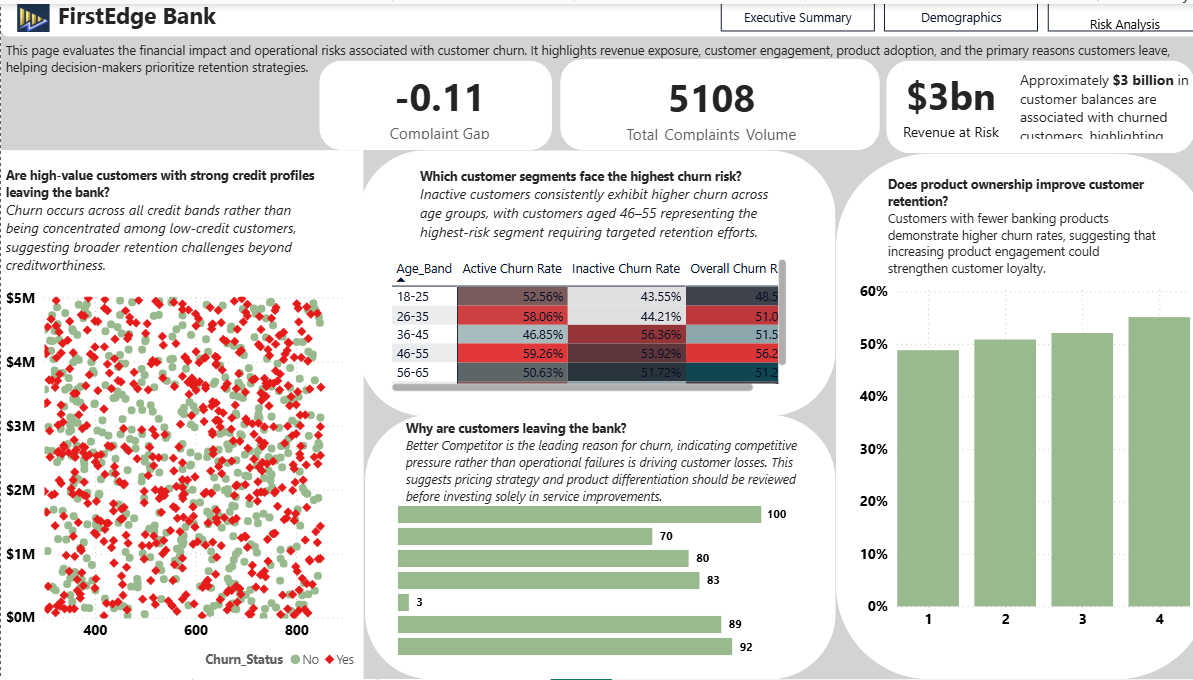

This screenshot's page, from the dashboard's own definition file:
{"tool":"powerbi","page":{"name":"Risk Analysis","canvas":[1280,720],"ordinal":2},"visuals":[{"type":"shape","box":[0,49.7,354.5,107.9],"z":0},{"type":"shape","box":[354.5,47.9,339.1,97.6],"z":1000},{"type":"shape","box":[693.5,49.7,246.6,95.9],"z":2000},{"type":"shape","box":[940.1,49.7,327.1,99.3],"z":3000},{"type":"shape","box":[385.3,440.1,481.2,279.1],"z":4000},{"type":"shape","box":[383.6,157.5,481.2,282.5],"z":5000},{"type":"shape","box":[864.7,157.5,416.1,561.7],"z":6000},{"type":"shape","box":[0,159.3,383.6,559.9],"z":7000},{"type":"shape","box":[0,0,1280.9,47.9],"z":8000},{"type":"textbox","title":"FirstEdge Bank","box":[68.5,0,196.9,39.4],"z":9000},{"type":"image","box":[0,0,68.5,39.4],"z":10000},{"type":"pageNavigator","box":[738,10.3,512,30.8],"z":11000},{"type":"card","fields":{"Values":["_Metrics.Revenue at Risk"]},"box":[974.3,49.7,125,90.8],"z":12000},{"type":"textbox","box":[1099.3,56.5,167.8,87.3],"z":13000},{"type":"card","fields":{"Values":["Sum(churn_status.Num_Of_Complaints)"]},"box":[385.3,56.5,263.7,82.2],"z":14000},{"type":"card","fields":{"Values":["_Metrics.Complaint Gap"]},"box":[724.3,56.5,186.6,80.5],"z":15000},{"type":"textbox","box":[30.8,41.1,323.6,116.4],"z":16000},{"type":"scatterChart","fields":{"Y":["Dim_Customer.Account_Balance"],"Series":["churn_status.Churn_Status"],"X":["Dim_Customer.Credit_Score"]},"box":[0,299.7,383.6,417.8],"z":17000},{"type":"pivotTable","fields":{"Rows":["Dim_Customer.Age_Band"],"Values":["_Metrics.Active Churn Rate","_Metrics.Inactive Churn Rate","_Metrics.Churn Rate"]},"box":[407.5,270.6,428.1,150.7],"z":18000},{"type":"clusteredColumnChart","fields":{"Y":["_Metrics.Churn Rate"],"Category":["Dim_Customer.Number_of_Products"]},"box":[887,292.8,373.3,383.6],"z":19000},{"type":"textbox","box":[0,171.2,337.3,128.4],"z":20000},{"type":"textbox","box":[924.7,172.9,296.2,119.9],"z":21000},{"type":"textbox","box":[438.4,172.9,380.1,99.3],"z":22000},{"type":"barChart","fields":{"Category":["churn_status.Churn_Reason"],"Y":["_Metrics.Churned Customer"]},"box":[414.4,524,421.2,176.4],"z":23000},{"type":"textbox","box":[423,440.1,441.8,101],"z":24000}]}

Visuals, with their boxes in screenshot pixels (x1, y1, x2, y2), scaled from the page's 1280x720 canvas onto the 1193x680 screenshot:
shape: l=0, t=47, r=330, b=149
shape: l=330, t=45, r=646, b=137
shape: l=646, t=47, r=876, b=138
shape: l=876, t=47, r=1181, b=141
shape: l=359, t=416, r=808, b=679
shape: l=358, t=149, r=806, b=416
shape: l=806, t=149, r=1192, b=679
shape: l=0, t=150, r=358, b=679
shape: l=0, t=0, r=1192, b=45
"FirstEdge Bank" textbox: l=64, t=0, r=247, b=37
image: l=0, t=0, r=64, b=37
pageNavigator: l=688, t=10, r=1165, b=39
card - _Metrics.Revenue at Risk: l=908, t=47, r=1025, b=133
textbox: l=1025, t=53, r=1181, b=136
card - Sum(churn_status.Num_Of_Complaints): l=359, t=53, r=605, b=131
card - _Metrics.Complaint Gap: l=675, t=53, r=849, b=129
textbox: l=29, t=39, r=330, b=149
scatterChart - Dim_Customer.Account_Balance x churn_status.Churn_Status: l=0, t=283, r=358, b=678
pivotTable - Dim_Customer.Age_Band x _Metrics.Active Churn Rate: l=380, t=256, r=779, b=398
clusteredColumnChart - _Metrics.Churn Rate x Dim_Customer.Number_of_Products: l=827, t=277, r=1175, b=639
textbox: l=0, t=162, r=314, b=283
textbox: l=862, t=163, r=1138, b=277
textbox: l=409, t=163, r=763, b=257
barChart - churn_status.Churn_Reason x _Metrics.Churned Customer: l=386, t=495, r=779, b=661
textbox: l=394, t=416, r=806, b=511
